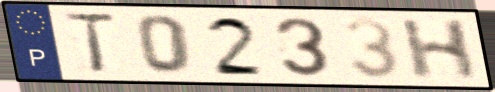0: (132, 12, 197, 77)
2: (202, 15, 266, 78)
3: (343, 14, 400, 83), (271, 15, 330, 78)
H: (398, 18, 480, 82)
T: (60, 11, 120, 75)
